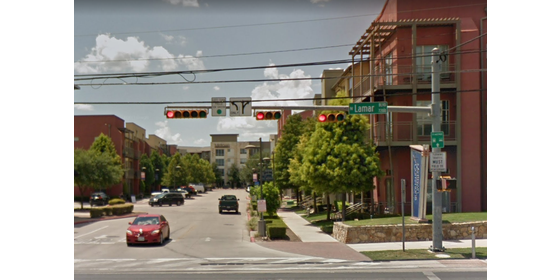green bus sign: (430, 132, 446, 151)
left turn only sign: (229, 93, 240, 116)
left turn yield on green sign: (210, 95, 228, 118)
straight right turn sign: (240, 94, 253, 118)
street name sign: (348, 101, 390, 114)
turning vehicle yield to ped sign: (429, 150, 447, 173)
